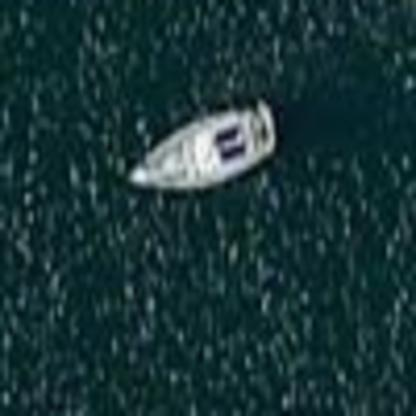ship: (121, 92, 286, 218)
